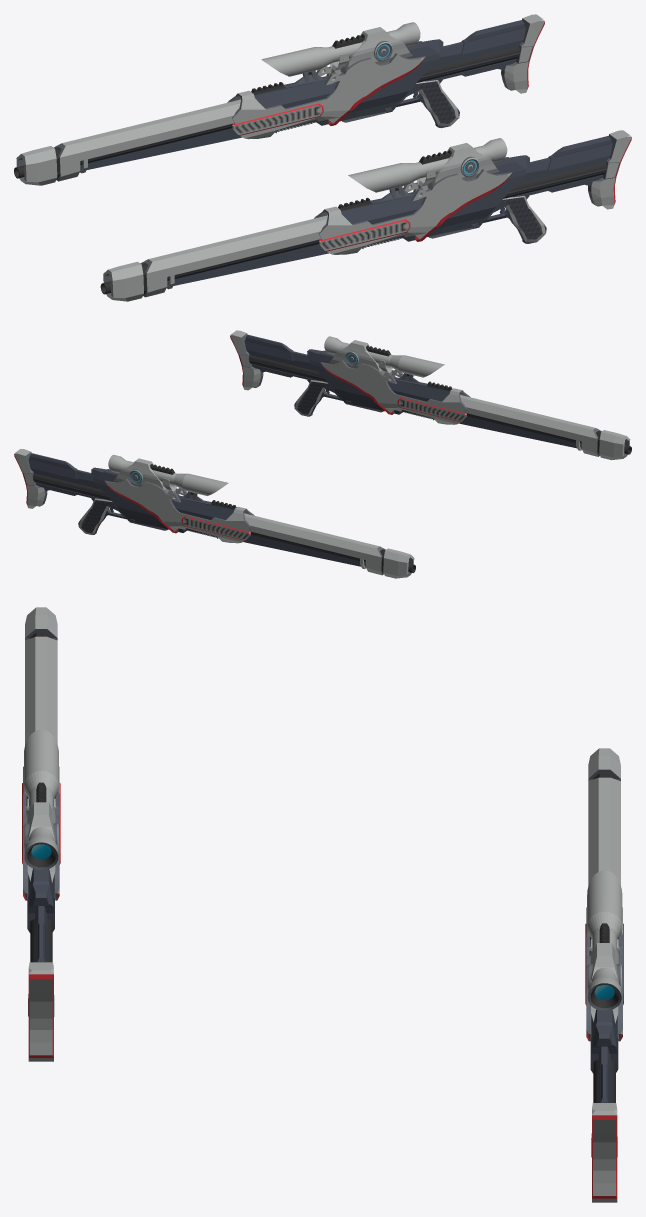
File: S GUN.fbx
3 renders of one model, top to bottom at view 1: azimuth 30°, elevation 25°; view 2: azimuth 150°, elevation 25°; view 3: azimuth 270°, elevation 25°, orthographic. The views are drawn at different scales.
Parts seen in each view (by area): view 1: сайфай, Plane_005, Plane_003, Plane_001, Plane_006, Circle_001, Circle, Plane_008, Plane_007, Plane_002; view 2: сайфай, Plane_005, Plane_003, Plane_001, Plane_006, Circle_001, Circle, Plane_008, Plane_002, Plane_007; view 3: сайфай, Plane_001, Circle_001, Plane_007, Plane_006, Plane_008, Plane_003, Plane_005.
Boxes of the visible parts, x1,y1,x2,y2 form: сайфай: (100,130,631,301); Plane_005: (80,20,525,171); Plane_003: (227,53,425,139); Plane_001: (16,99,240,185); Plane_006: (275,39,443,133); Circle_001: (261,22,420,76); Circle: (14,47,519,178); Plane_008: (330,27,412,74); Plane_007: (501,14,544,93); Plane_002: (396,79,459,128); сайфай: (230,330,631,460); Plane_005: (28,453,365,567); Plane_003: (105,478,254,543); Plane_001: (244,513,414,578); Plane_006: (91,467,218,538); Circle_001: (108,455,228,495); Circle: (33,473,415,572); Plane_008: (114,458,176,494); Plane_002: (78,498,126,534); Plane_007: (14,449,47,508); сайфай: (22,607,60,1061); Plane_001: (588,748,620,885); Circle_001: (587,870,622,1010); Plane_007: (591,1103,617,1202); Plane_006: (590,1009,618,1073); Plane_008: (589,923,619,1023); Plane_003: (585,907,623,1041); Plane_005: (589,937,619,1102).
Bounding box in the file's own units: 10.89 × 2.62 × 6.01.
